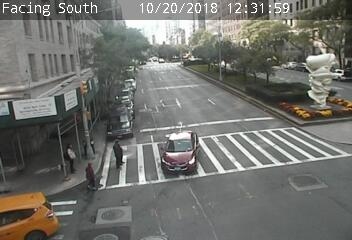car: (162, 132, 200, 174)
